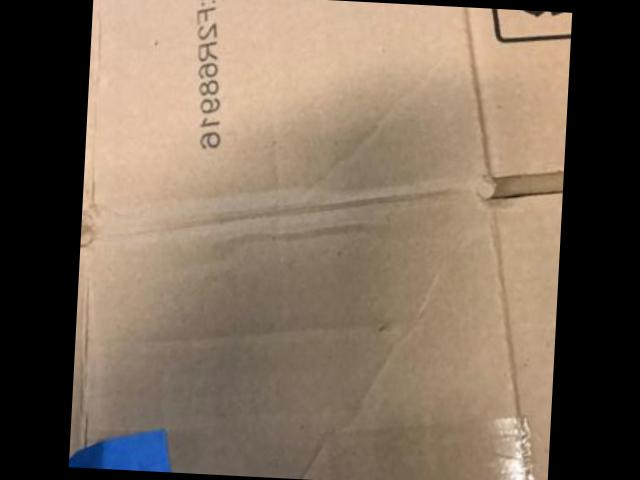cardboard paper: (68, 0, 572, 480)
